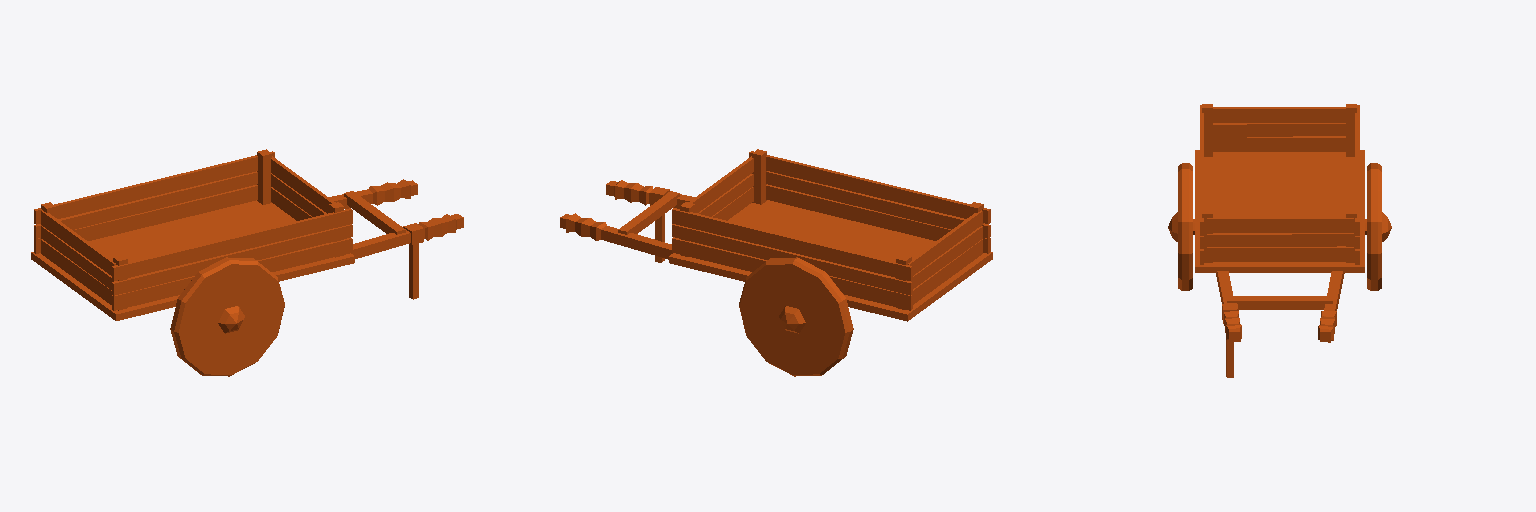
Rendered from cart_001.obj.
3 views of the same model, side by side, from view 1: azimuth 30°, elevation 25°; view 2: azimuth 150°, elevation 25°; view 3: azimuth 270°, elevation 25° (orthographic).
Visible parts, largest first — view 1: cart_001_cart_001.001; view 2: cart_001_cart_001.001; view 3: cart_001_cart_001.001.
Boxes of the visible parts, x1,y1,x2,y2 form: cart_001_cart_001.001: [31, 149, 463, 376]; cart_001_cart_001.001: [560, 149, 992, 376]; cart_001_cart_001.001: [1168, 104, 1391, 377].
Bounding box in the file's own units: 3.35 × 1.16 × 1.78.